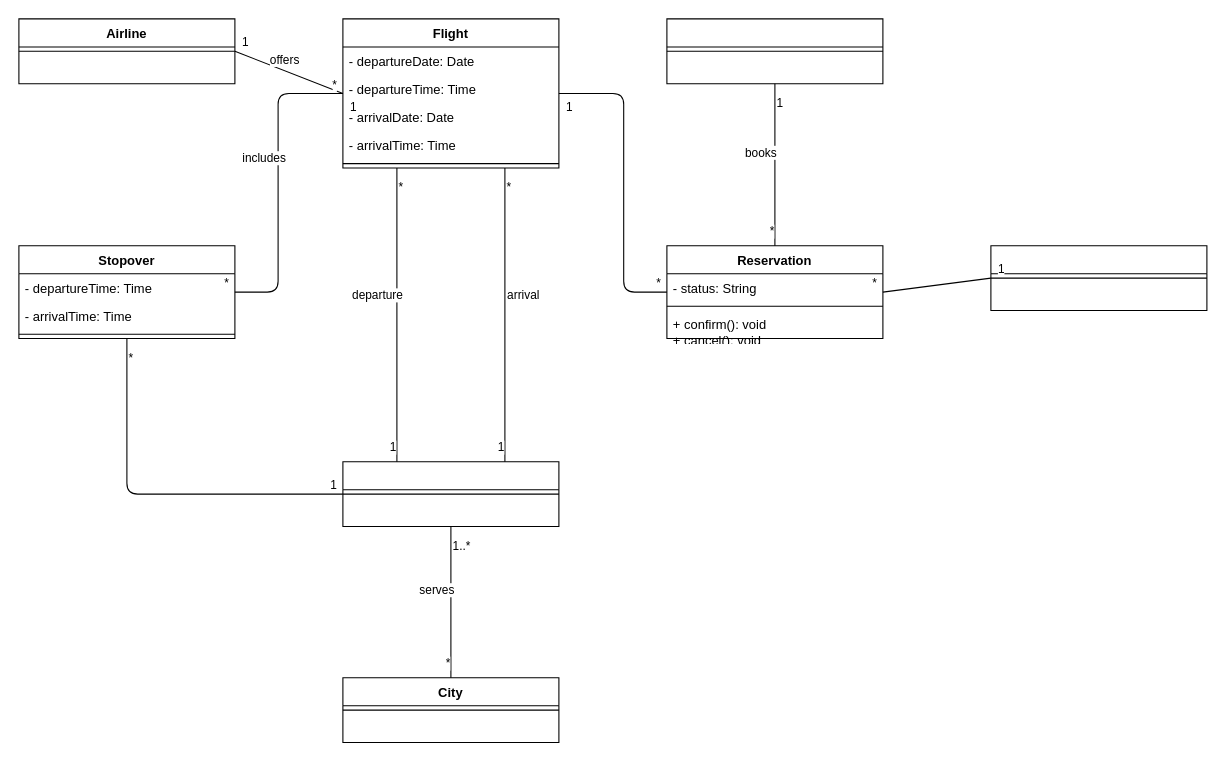
Some shapes in this 1226 by 761 pixel diagram are drawn without their labels. Each missing label, with the centre of its shape:
"Airport" goes at pixel 450 493.
"Client" goes at pixel 774 51.
"Passenger" goes at pixel 1098 277.
